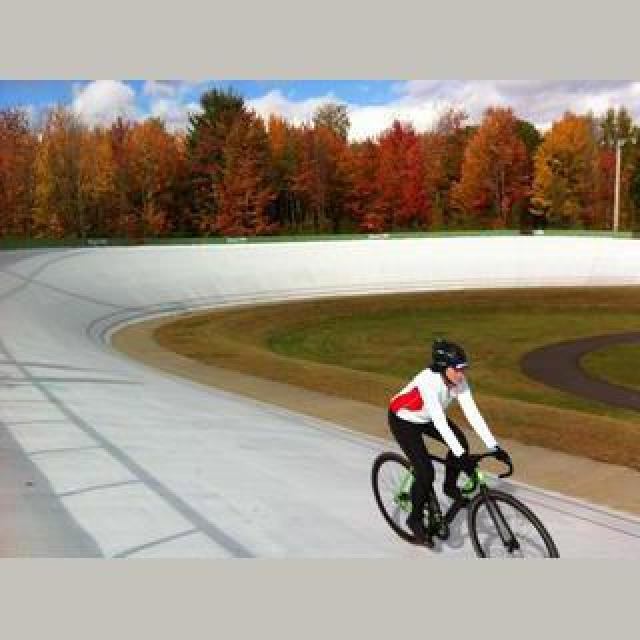MC-Bike: (384, 338, 514, 544)
Person: (373, 444, 559, 558)
